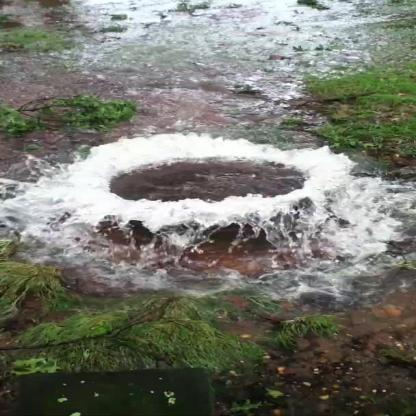drainage overflow-repair-: (0, 128, 397, 298)
